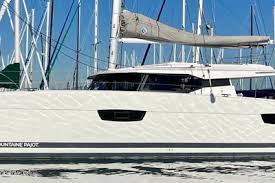boat: (1, 1, 274, 164)
